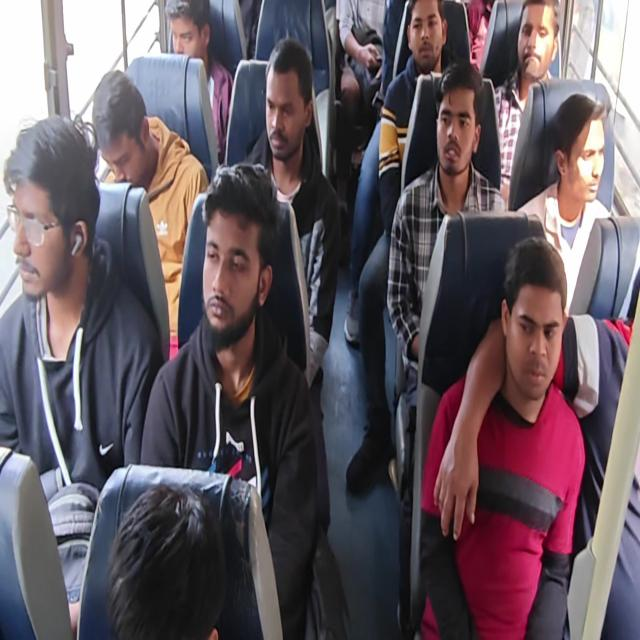person: (104, 464, 242, 640), (191, 144, 279, 358), (4, 122, 105, 292), (497, 230, 559, 404), (89, 63, 158, 194), (258, 39, 310, 162), (440, 60, 483, 198), (555, 93, 606, 205), (515, 0, 560, 83), (163, 0, 210, 65), (405, 0, 445, 66)
